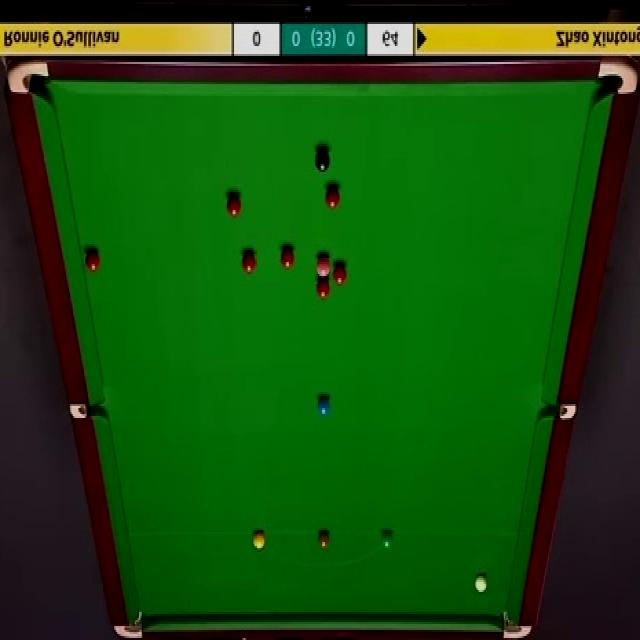black-ball: (316, 147, 330, 172)
blue-ball: (317, 394, 330, 416)
brown-ball: (318, 530, 330, 547)
green-ball: (382, 530, 393, 550)
pink-ball: (317, 254, 331, 276)
red-ball: (225, 192, 242, 217), (84, 247, 100, 272), (280, 245, 295, 271), (241, 249, 257, 273), (334, 262, 348, 286), (316, 278, 329, 301)
white-ball: (475, 574, 488, 594)
yellow-ball: (252, 529, 267, 550)
